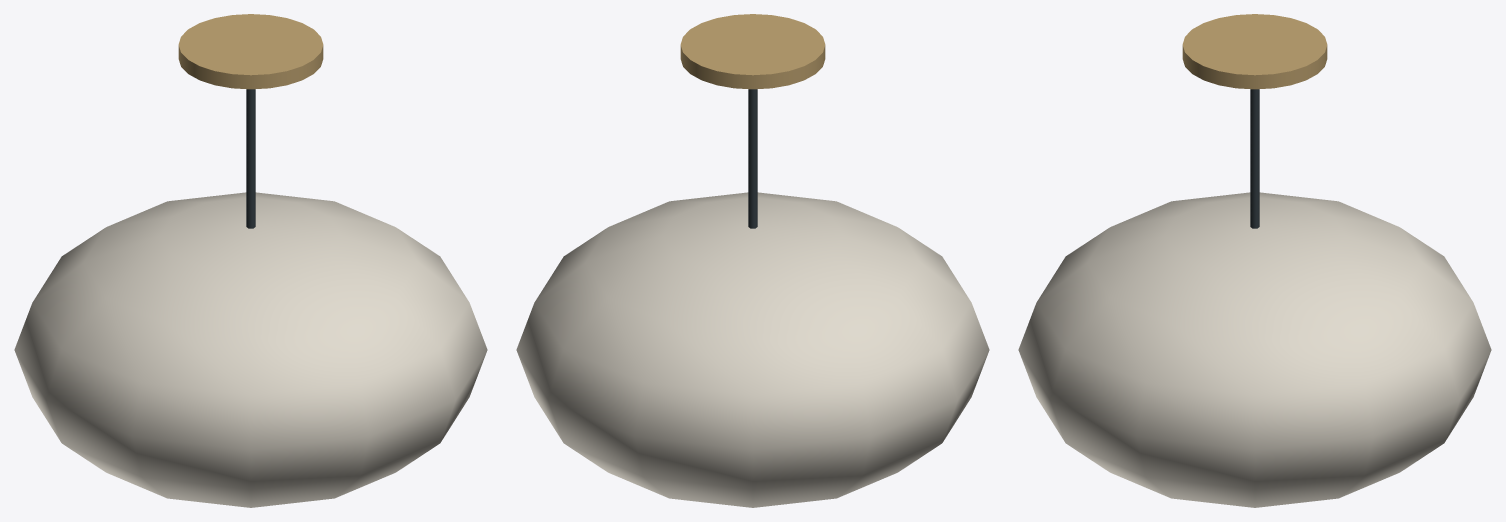
The model's file is lamp-16-3.glb.
3 views of the same model, side by side, from view 1: azimuth 30°, elevation 25°; view 2: azimuth 150°, elevation 25°; view 3: azimuth 270°, elevation 25° (orthographic).
Visible parts, largest first — view 1: part (×3); view 2: part (×3); view 3: part (×3).
Part boxes in pixels (x1,y1,x2,y2): part (×3): (14,14,487,507); part (×3): (516,14,989,507); part (×3): (1018,14,1491,507).
Bounding box in the file's own units: 1 × 1 × 1.
